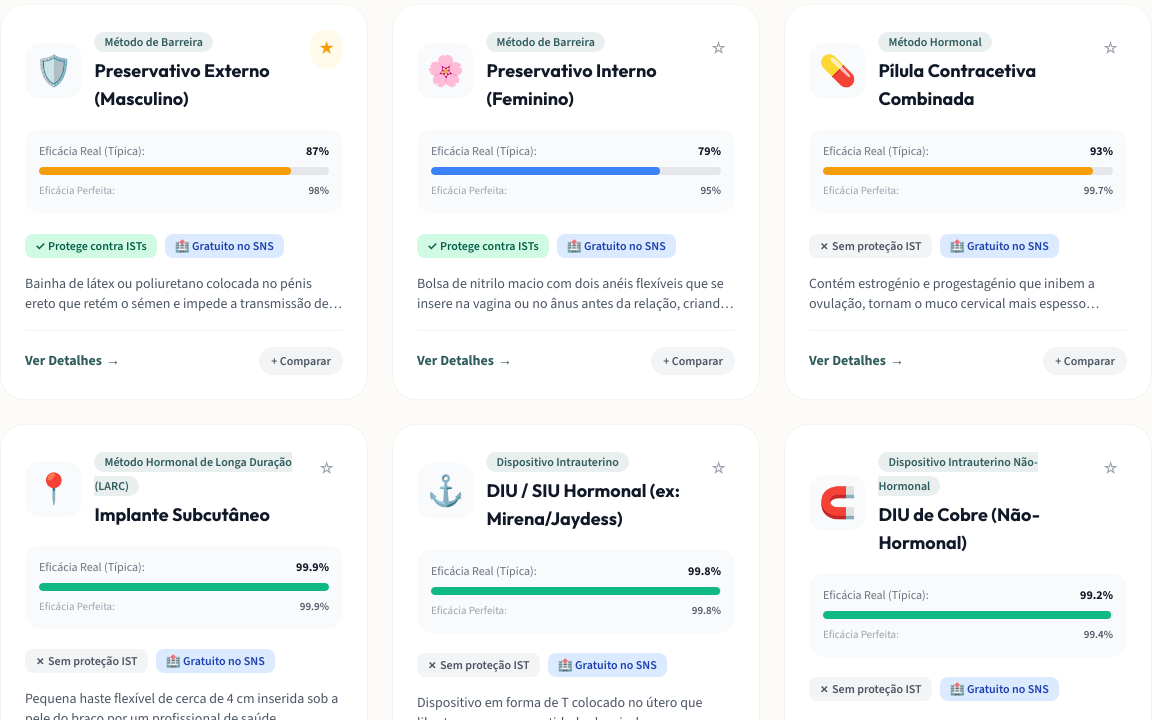
Test: ContraceptiveComparator › closes detail modal when close button clicked
(page scrolled)
What coordinates should you click on to do the following:
click the text "Ver Detalhes" below "98"
I would click on:
 (64, 360)
Its box is left=25, top=350, right=102, bottom=370.
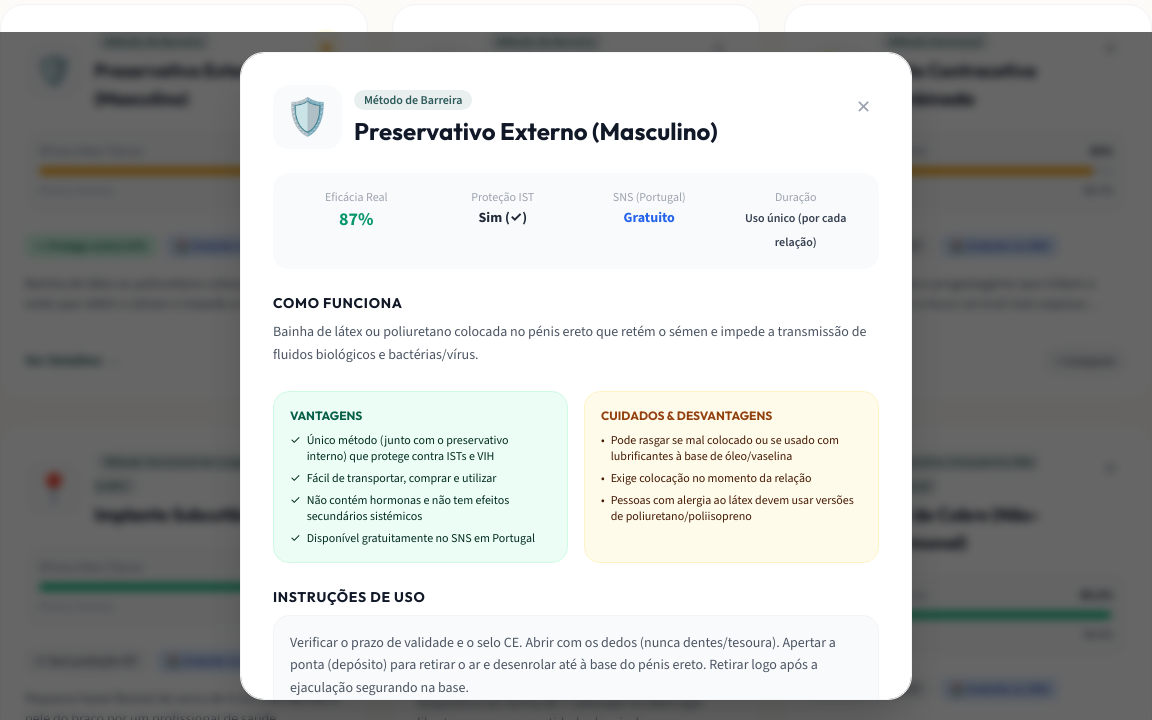
Result: the dialog is shown
What coordinates should you click on to do the following:
click the button named "fechar"
I would click on:
 (863, 107)
Its box is left=848, top=85, right=879, bottom=129.
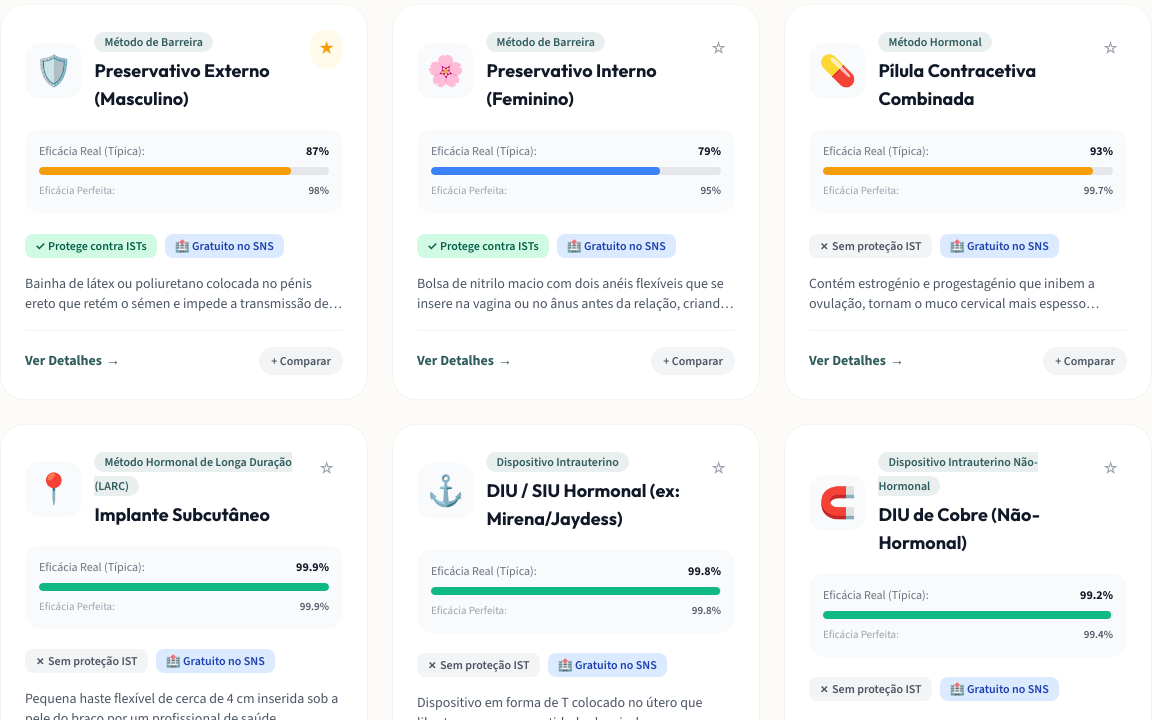
Result: the dialog is gone
